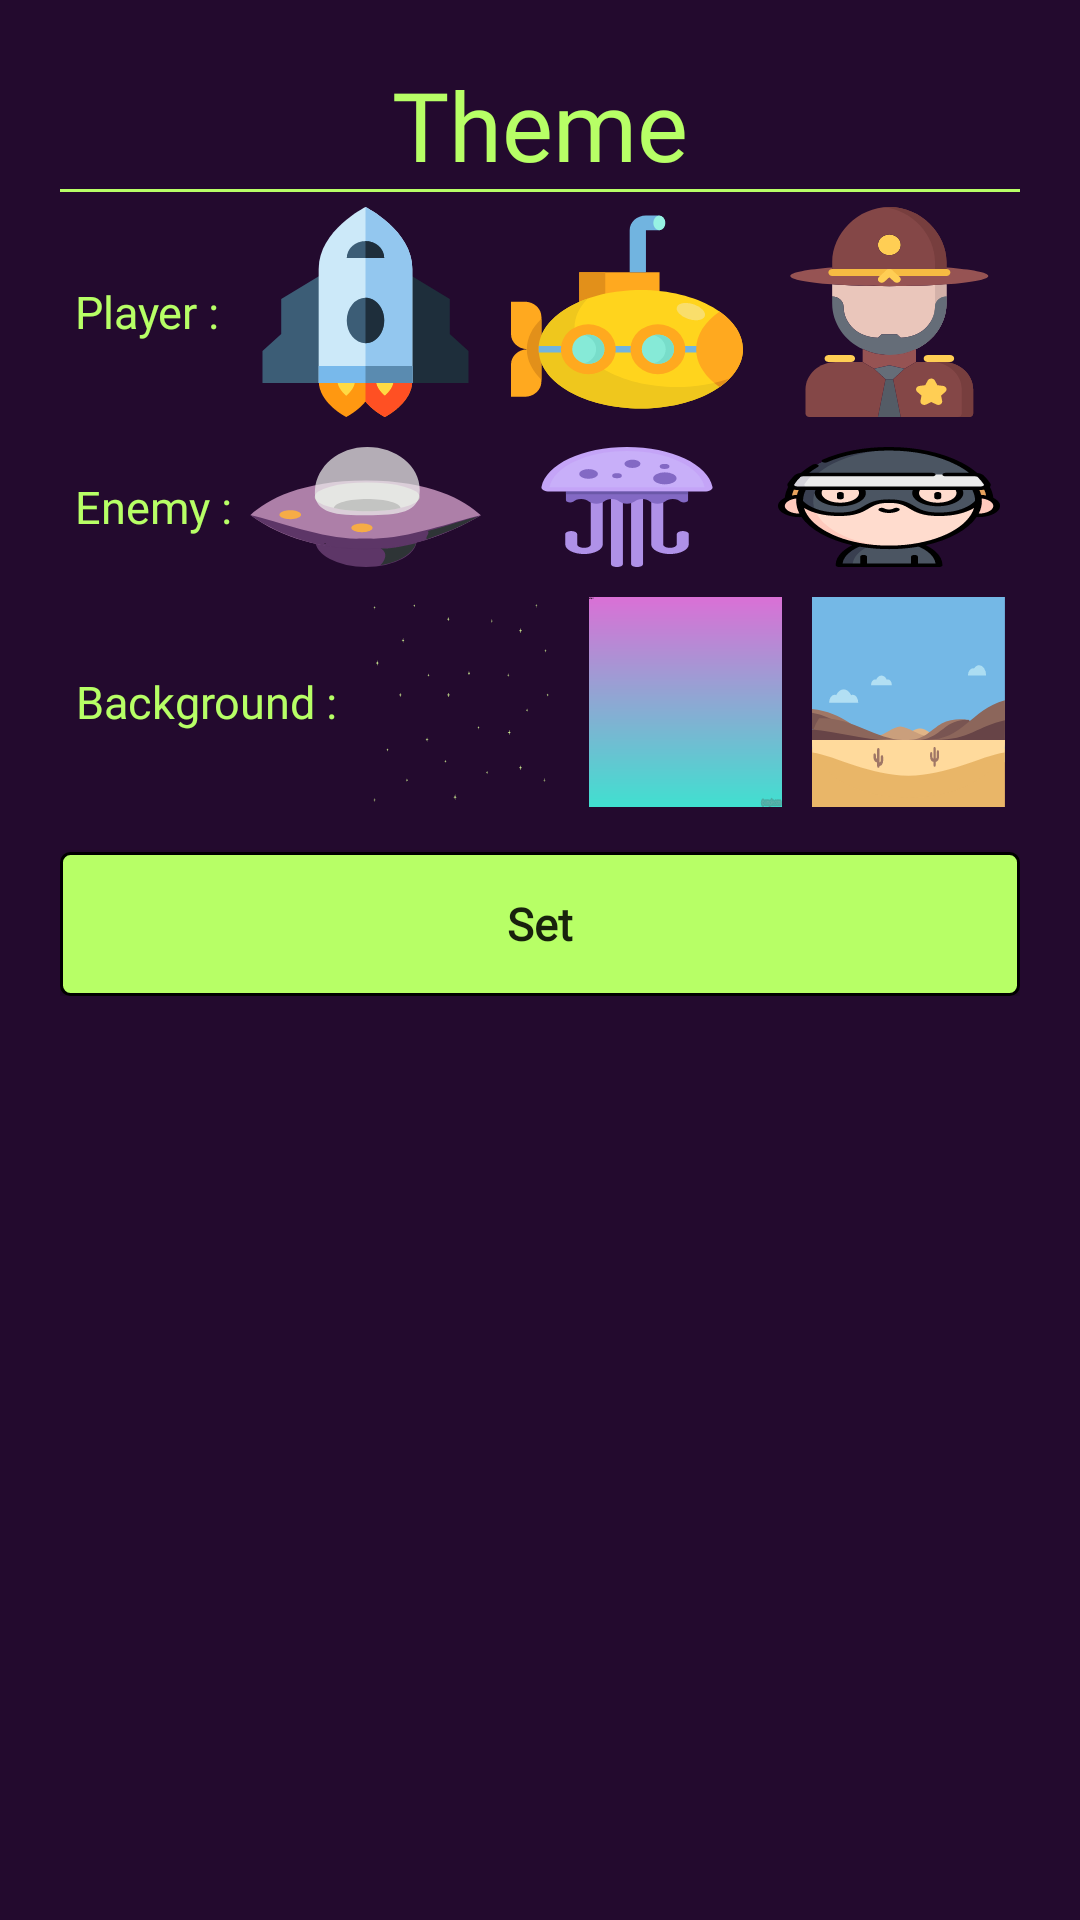

Named icons in this screenshot (1080×1920) and their centers, point (x, y):
desert: point (908, 702)
jellyfish: point (627, 507)
sheriff: point (889, 312)
spaceship: point (366, 507)
submarine: point (627, 312)
thief: point (889, 507)
